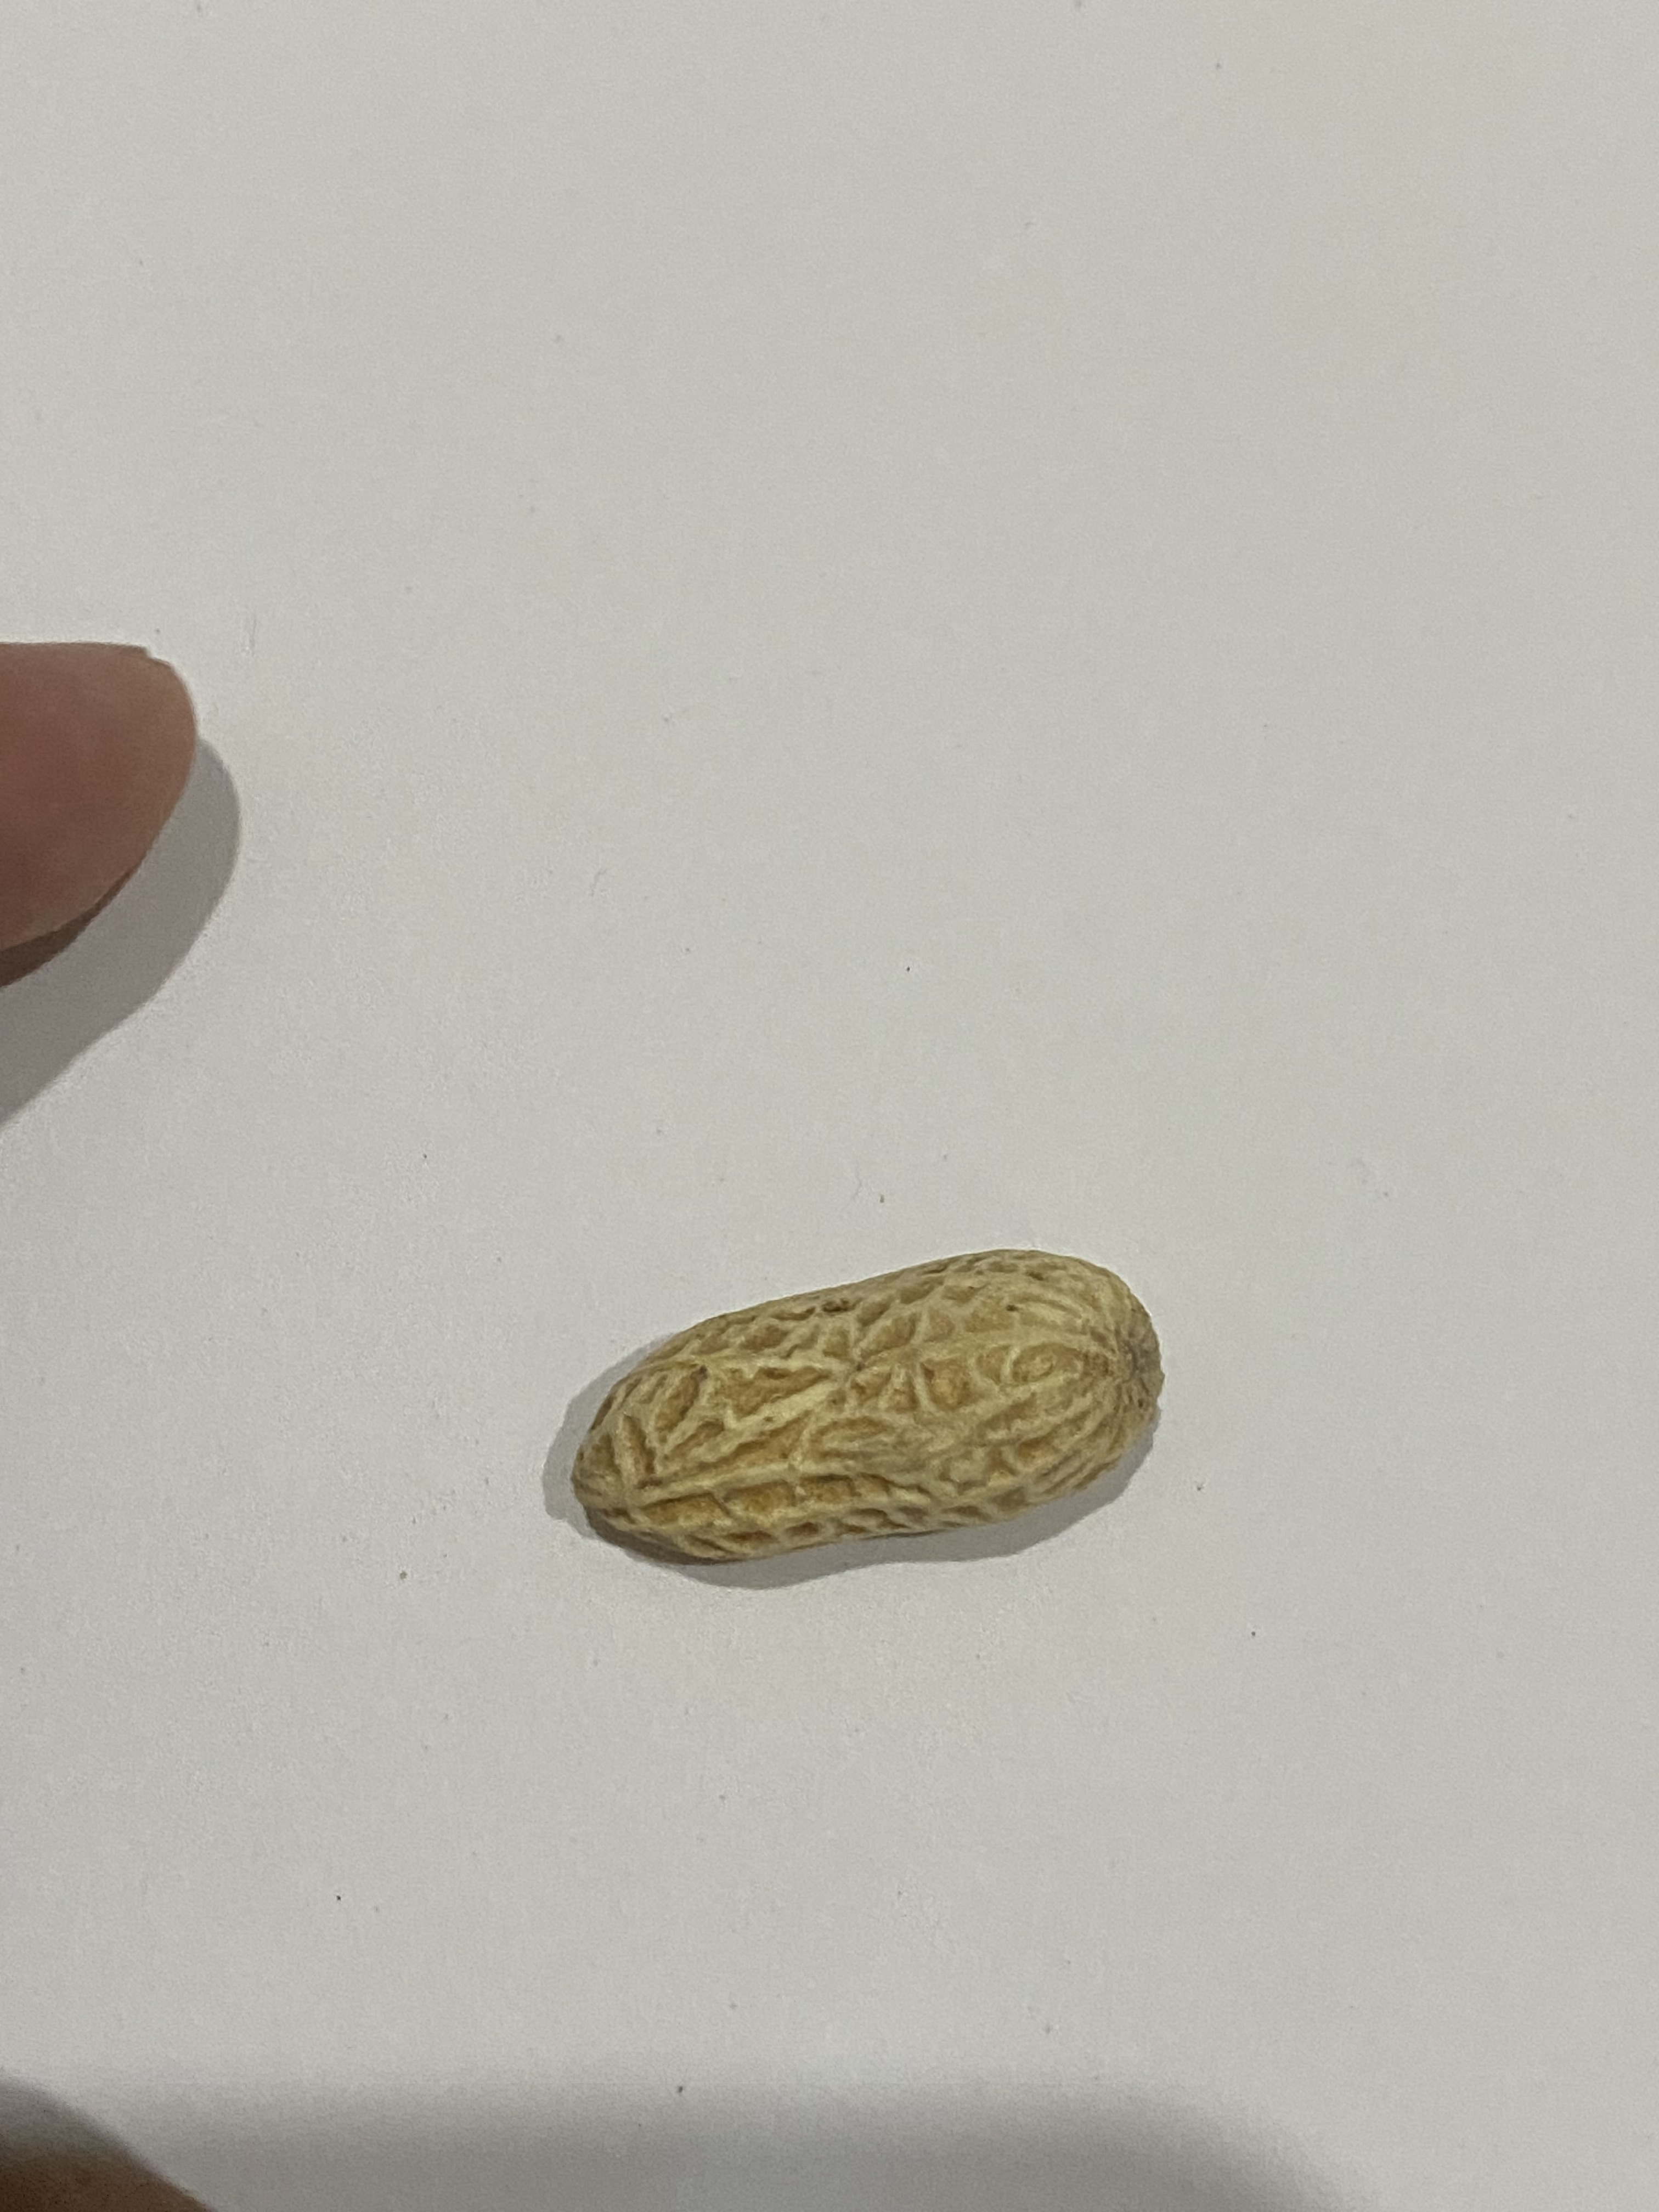kacang2: (538, 1249, 1188, 1571)
